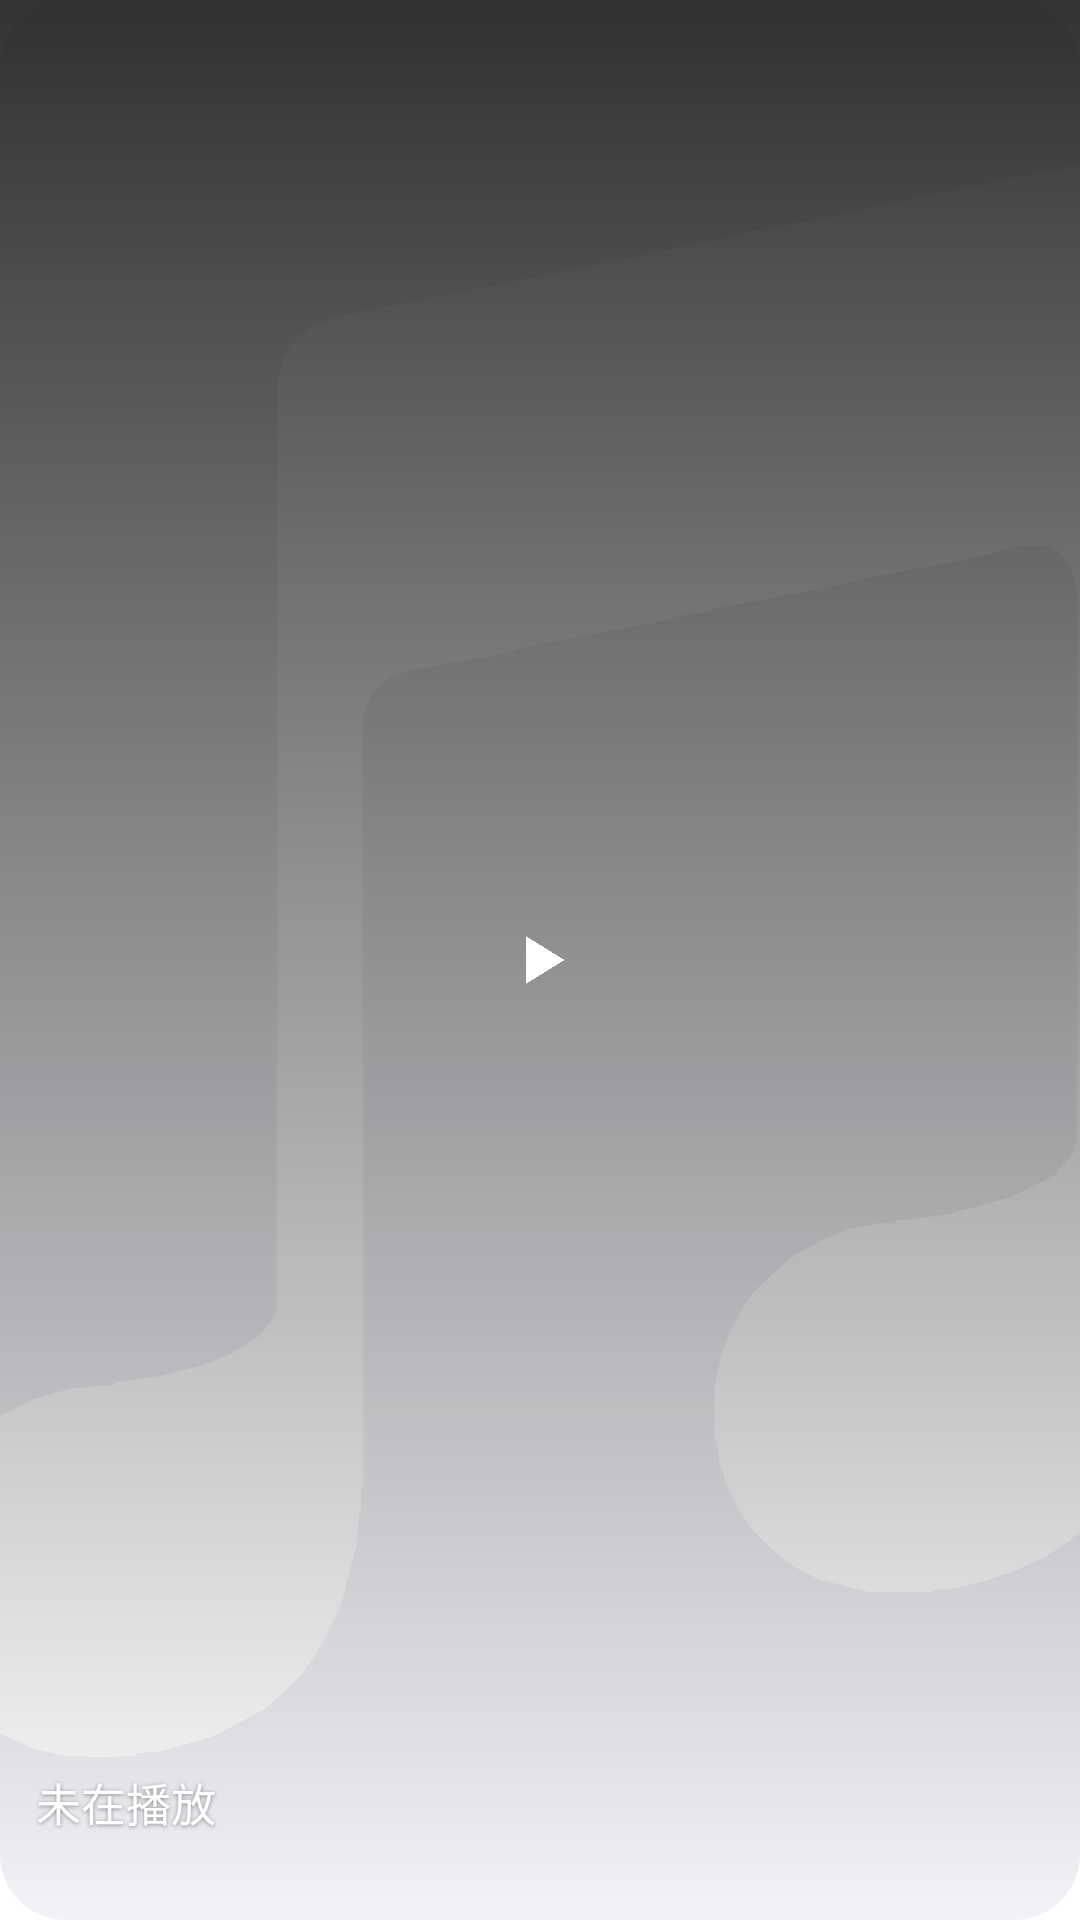

Screen size 1080x1920. Icon name, then its center in pixels as (x=x, y=y):
播放: (x=545, y=960)
